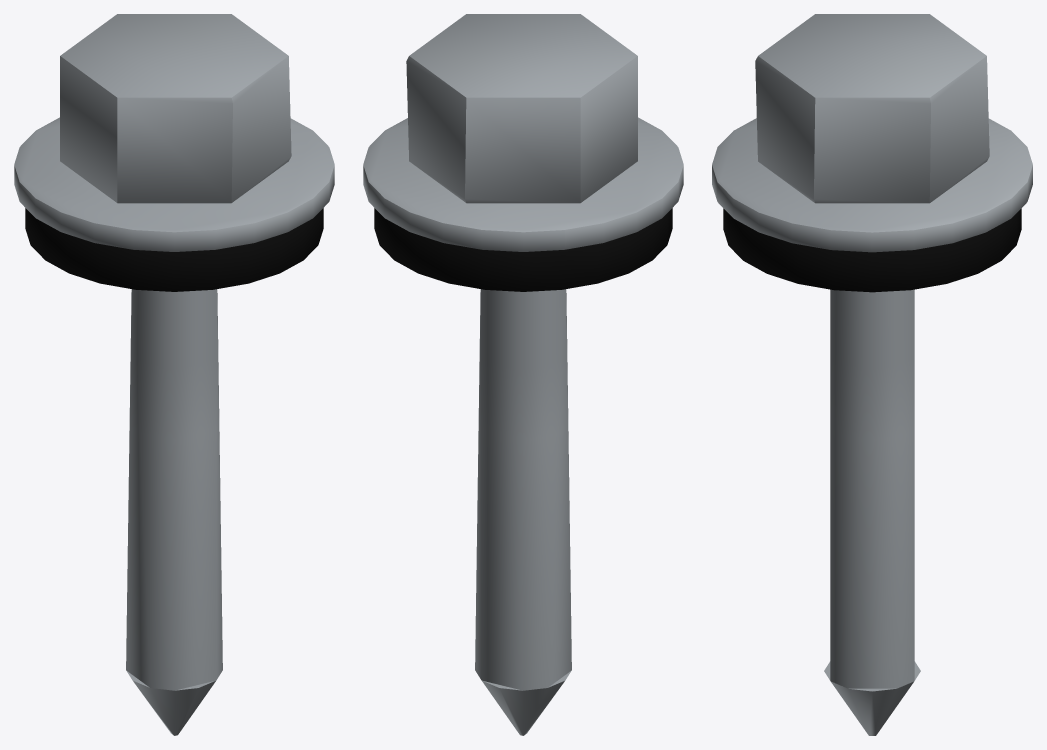
File: COB-ACS-002_lod1.glb
3 renders of one model, left to right at view 1: azimuth 30°, elevation 25°; view 2: azimuth 150°, elevation 25°; view 3: azimuth 270°, elevation 25°, orthographic.
Visible parts, largest first — view 1: COB-ACS-002_cabeca, COB-ACS-002_haste, COB-ACS-002_arruela, COB-ACS-002_vedacao, COB-ACS-002_broca; view 2: COB-ACS-002_cabeca, COB-ACS-002_haste, COB-ACS-002_arruela, COB-ACS-002_vedacao, COB-ACS-002_broca; view 3: COB-ACS-002_cabeca, COB-ACS-002_haste, COB-ACS-002_arruela, COB-ACS-002_vedacao, COB-ACS-002_broca.
Part boxes in pixels (x1,y1,x2,y2): COB-ACS-002_cabeca: [60, 14, 291, 203]; COB-ACS-002_haste: [126, 289, 222, 690]; COB-ACS-002_arruela: [14, 117, 334, 251]; COB-ACS-002_vedacao: [25, 208, 323, 291]; COB-ACS-002_broca: [127, 671, 215, 735]; COB-ACS-002_cabeca: [406, 14, 637, 203]; COB-ACS-002_haste: [475, 289, 571, 690]; COB-ACS-002_arruela: [363, 117, 683, 251]; COB-ACS-002_vedacao: [374, 208, 672, 291]; COB-ACS-002_broca: [482, 671, 570, 735]; COB-ACS-002_cabeca: [755, 14, 989, 203]; COB-ACS-002_haste: [830, 289, 914, 688]; COB-ACS-002_arruela: [712, 118, 1032, 252]; COB-ACS-002_vedacao: [723, 208, 1021, 292]; COB-ACS-002_broca: [824, 661, 920, 735].
Size of the model in its own units: 0.0159 by 0.0371 by 0.0159.
2 materials, 2 textured.
